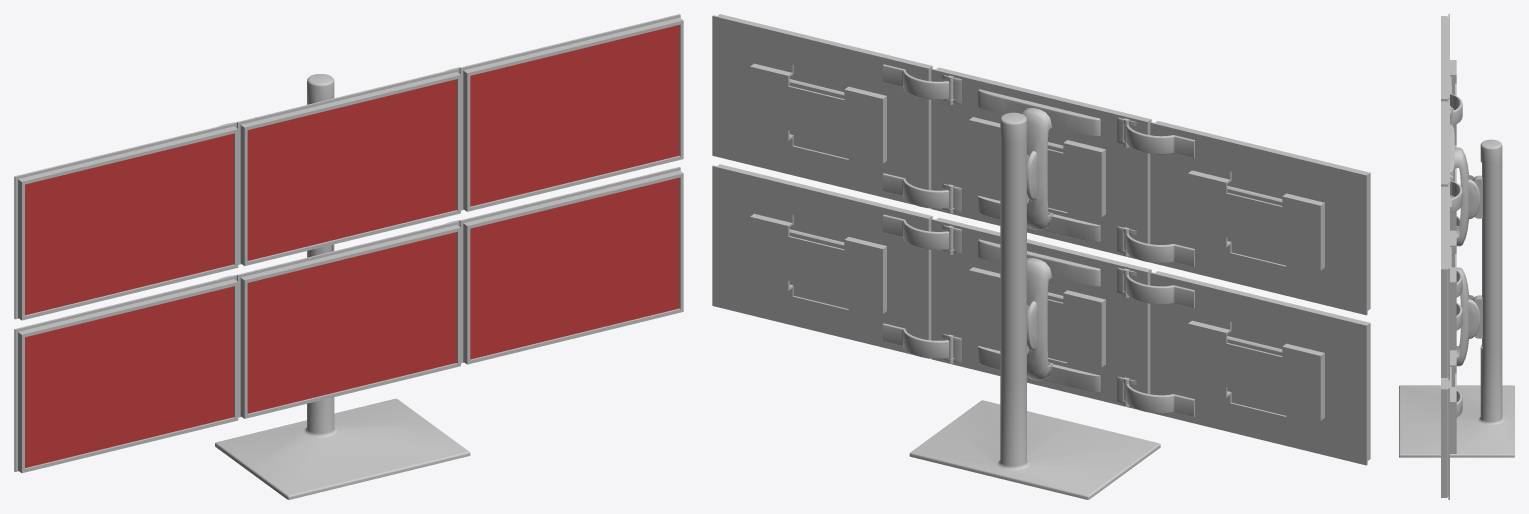
The model's file is Airport_Monitor_2_Tall.fbx.
3 renders of one model, left to right at view 1: azimuth 30°, elevation 25°; view 2: azimuth 150°, elevation 25°; view 3: azimuth 270°, elevation 25°, orthographic. The views are drawn at different scales.
Visible parts, largest first — view 1: Airport_Monitor_2_2_1, Airport_Monitor_2_2_1_1_2, Airport_Monitor_2_2_1_2_3, Airport_Monitor_2_2_1_2_2, Airport_Monitor_2_Stand_Long; view 2: Airport_Monitor_2_2_1, Airport_Monitor_2_2_1_1_2, Airport_Monitor_2_2_1_2_3, Airport_Monitor_2_2_1_2_2, Airport_Monitor_2_Stand_Long; view 3: Airport_Monitor_2_Stand_Long, Airport_Monitor_2_2_1, Airport_Monitor_2_2_1_2_3, Airport_Monitor_2_2_1_2_2, Airport_Monitor_2_1, Airport_Monitor_2_1_1.
Part boxes in pixels (bbox=[...]): Airport_Monitor_2_2_1: bbox=[14, 14, 683, 320]; Airport_Monitor_2_2_1_1_2: bbox=[14, 275, 238, 473]; Airport_Monitor_2_2_1_2_3: bbox=[445, 167, 683, 364]; Airport_Monitor_2_2_1_2_2: bbox=[237, 221, 460, 418]; Airport_Monitor_2_Stand_Long: bbox=[215, 74, 470, 499]; Airport_Monitor_2_2_1: bbox=[712, 14, 1370, 315]; Airport_Monitor_2_2_1_1_2: bbox=[1124, 271, 1370, 465]; Airport_Monitor_2_2_1_2_3: bbox=[712, 164, 953, 358]; Airport_Monitor_2_2_1_2_2: bbox=[931, 217, 1151, 409]; Airport_Monitor_2_Stand_Long: bbox=[909, 112, 1160, 499]; Airport_Monitor_2_Stand_Long: bbox=[1399, 139, 1514, 457]; Airport_Monitor_2_2_1: bbox=[1441, 14, 1480, 380]; Airport_Monitor_2_2_1_2_3: bbox=[1441, 303, 1462, 499]; Airport_Monitor_2_2_1_2_2: bbox=[1450, 267, 1480, 366]; Airport_Monitor_2_1: bbox=[1472, 175, 1482, 218]; Airport_Monitor_2_1_1: bbox=[1472, 295, 1482, 338].
Bounding box in the file's own units: 158 × 81.9 × 30.47.
